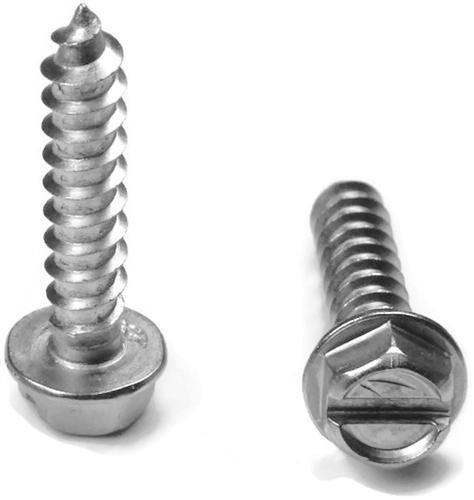slotted: (313, 306, 456, 482)
